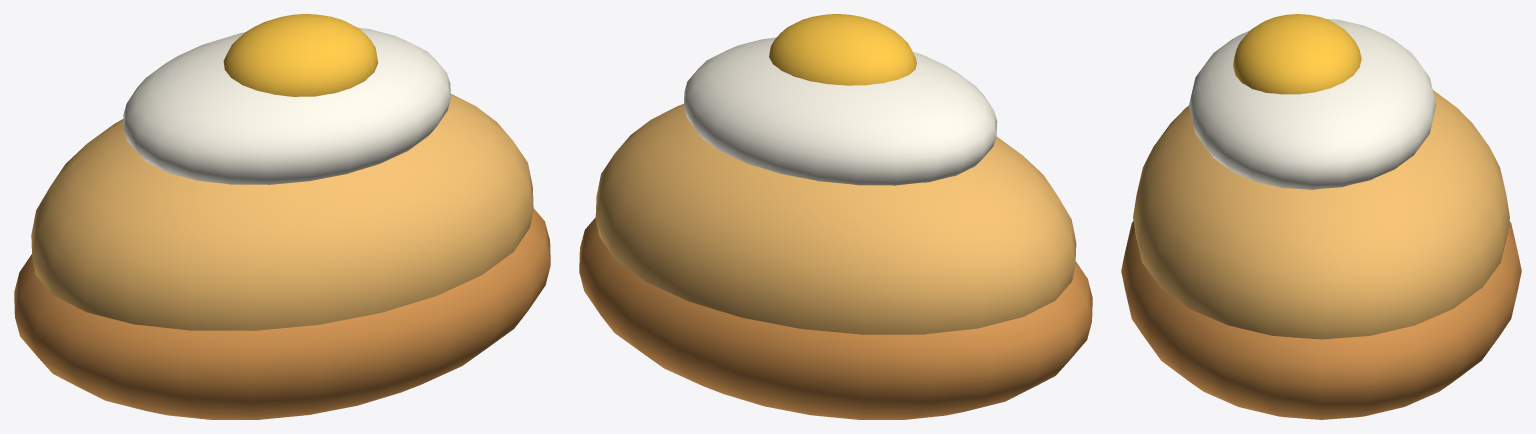
File: bread_egg_unity.glb
3 views of the same model, side by side, from view 1: azimuth 30°, elevation 25°; view 2: azimuth 150°, elevation 25°; view 3: azimuth 270°, elevation 25° (orthographic). The views are drawn at different scales.
Parts seen in each view (by area): view 1: Egg bun domed top, Egg bun lower crust, Egg white, Egg yolk; view 2: Egg bun domed top, Egg bun lower crust, Egg white, Egg yolk; view 3: Egg bun domed top, Egg bun lower crust, Egg white, Egg yolk.
Boxes of the visible parts, left/top/right/bottom form: Egg bun domed top: left=31, top=94, right=533, bottom=330; Egg bun lower crust: left=14, top=208, right=550, bottom=419; Egg white: left=123, top=27, right=450, bottom=184; Egg yolk: left=223, top=14, right=378, bottom=96; Egg bun domed top: left=595, top=104, right=1076, bottom=334; Egg bun lower crust: left=579, top=217, right=1092, bottom=419; Egg white: left=683, top=37, right=997, bottom=185; Egg yolk: left=769, top=14, right=916, bottom=85; Egg bun domed top: left=1133, top=90, right=1509, bottom=339; Egg bun lower crust: left=1121, top=221, right=1521, bottom=419; Egg white: left=1189, top=19, right=1436, bottom=189; Egg yolk: left=1233, top=14, right=1361, bottom=94.
Bounding box in the file's own units: 0.92 × 0.645 × 0.68.
